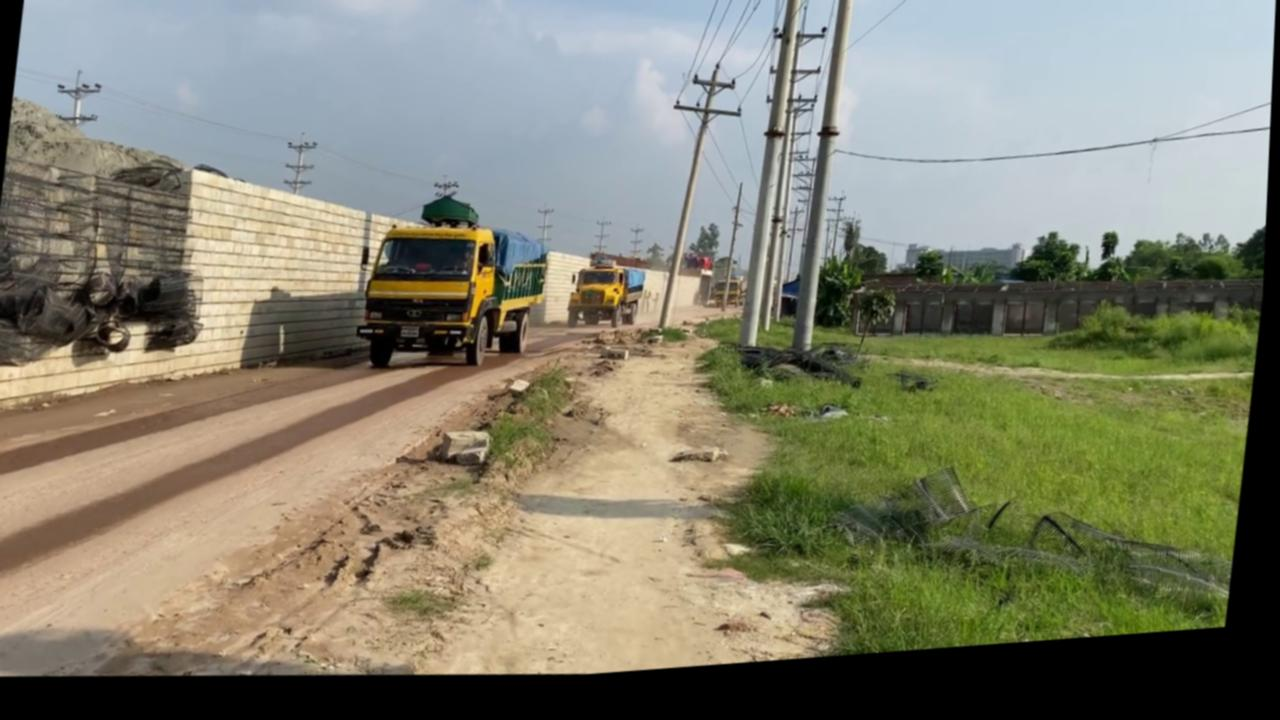Muddy road: (0, 250, 881, 720)
Pole: (792, 0, 861, 367), (739, 0, 809, 360)
Rickshaw: (426, 301, 883, 694)
Tree: (352, 177, 559, 386), (567, 257, 651, 341), (711, 265, 751, 320)
